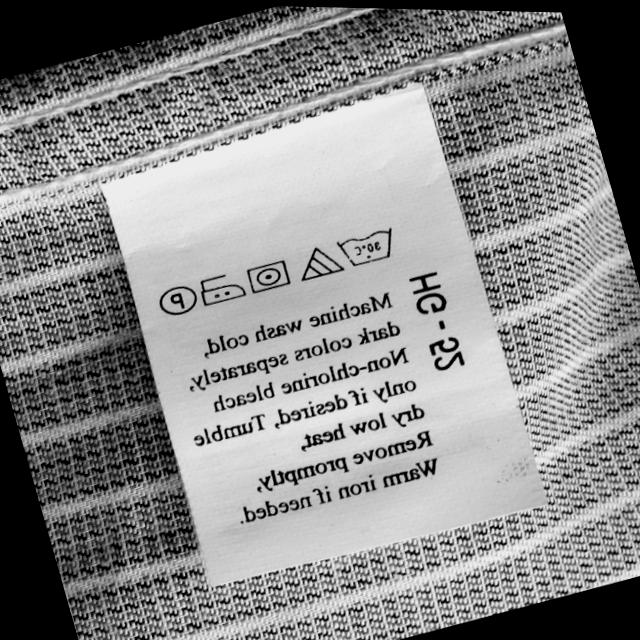30C: (337, 226, 399, 269)
dry_clean_any_solvent_except_trichloroethylene: (161, 283, 198, 317)
iron_medium: (198, 268, 247, 308)
non_chlorine_bleach: (301, 244, 345, 283)
tumble_dry_low: (246, 256, 294, 294)
